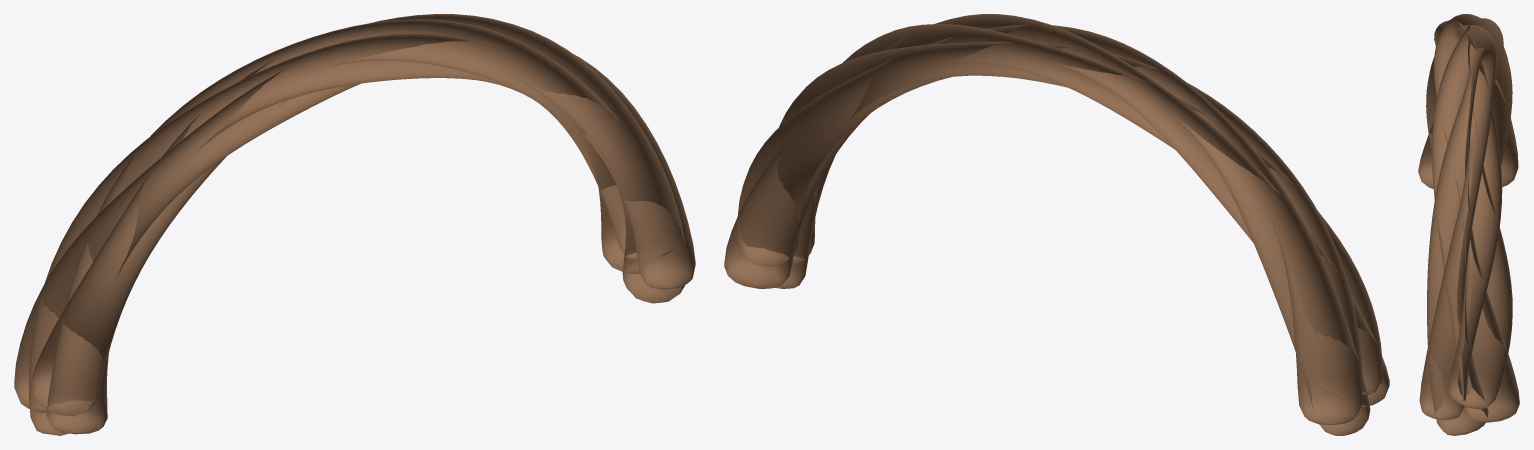
The model's file is root_arch.glb.
3 renders of one model, left to right at view 1: azimuth 30°, elevation 25°; view 2: azimuth 150°, elevation 25°; view 3: azimuth 270°, elevation 25°, orthographic. The views are drawn at different scales.
Visible parts, largest first — view 1: SM_Forest_RootArch; view 2: SM_Forest_RootArch; view 3: SM_Forest_RootArch.
Part boxes in pixels (x1,y1,x2,y2): SM_Forest_RootArch: [14, 14, 695, 435]; SM_Forest_RootArch: [724, 14, 1389, 435]; SM_Forest_RootArch: [1418, 14, 1519, 435].
Size of the model in its own units: 10.08 by 5 by 1.69.
